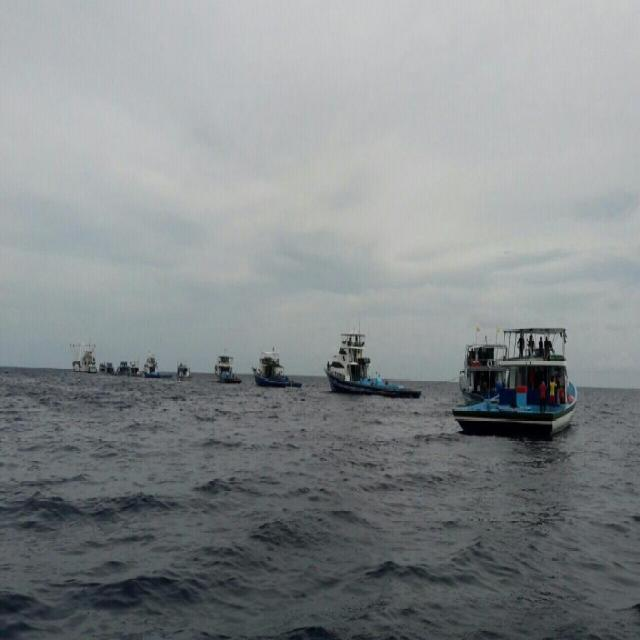fishing boat: (434, 308, 588, 446), (309, 318, 426, 414), (255, 346, 306, 391), (212, 344, 239, 386), (141, 350, 169, 380)
